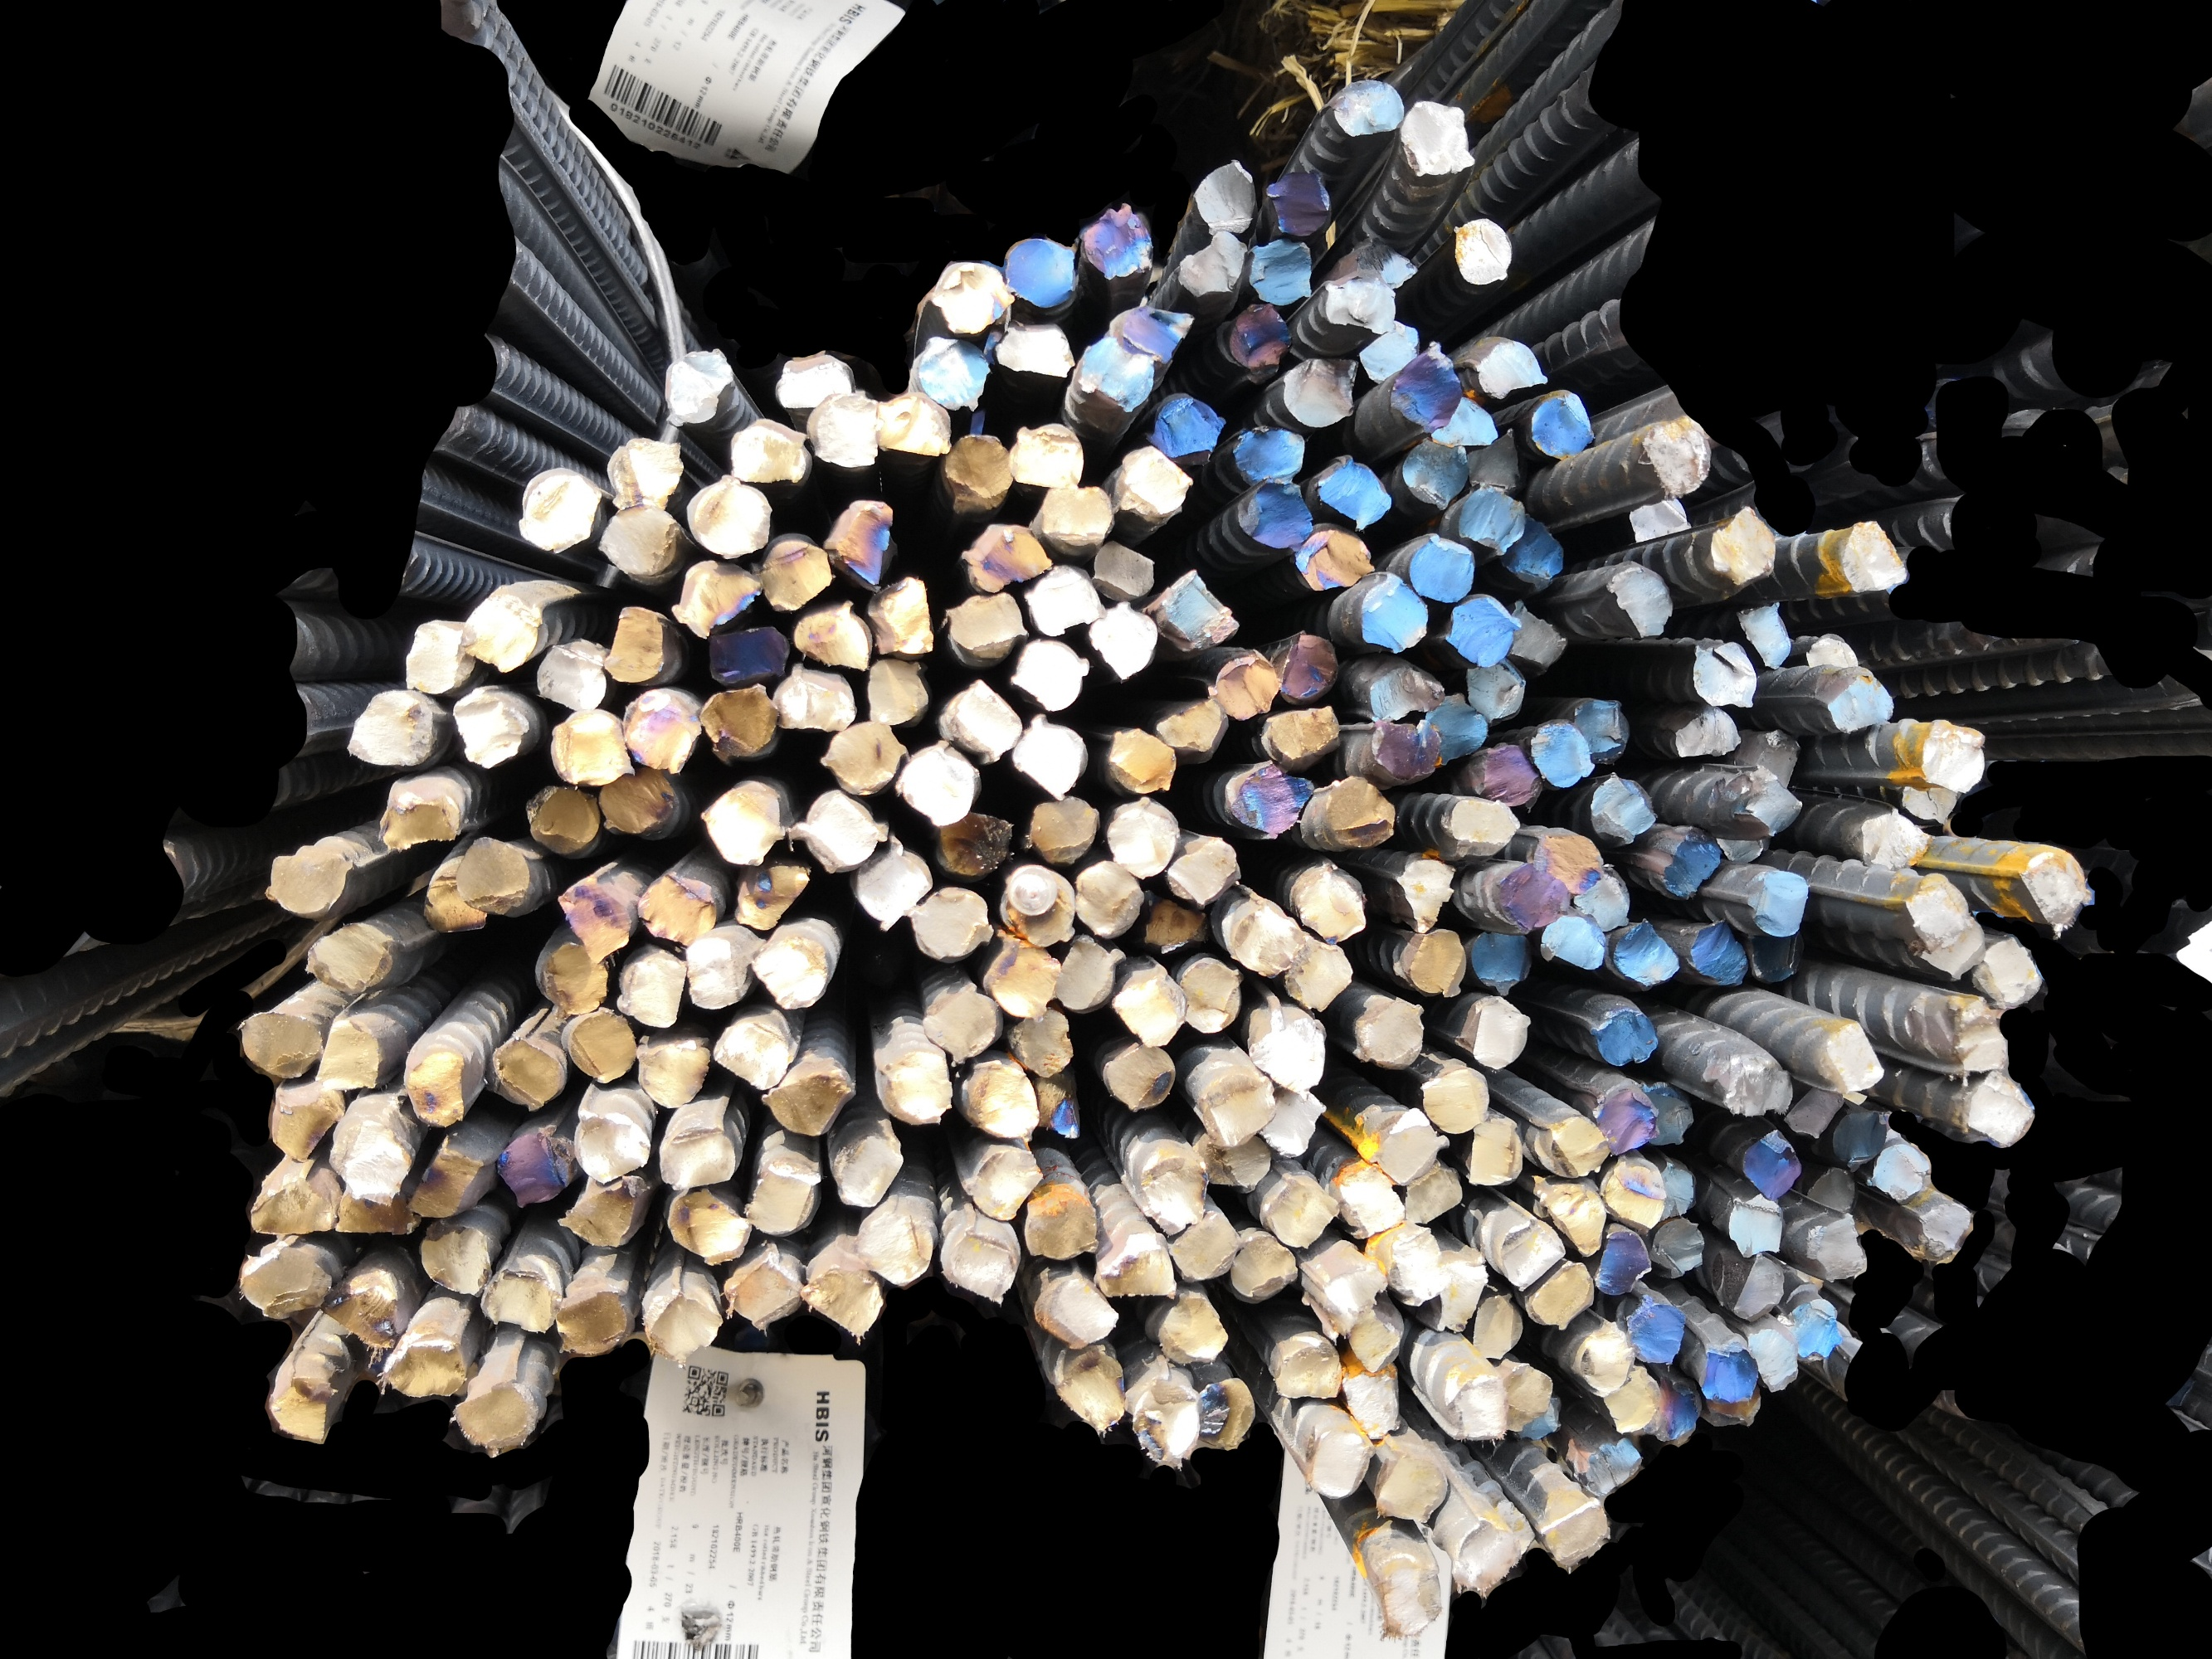rebar: (788, 786, 891, 875), (851, 833, 936, 936), (699, 775, 791, 870), (683, 471, 777, 558), (666, 556, 762, 641), (303, 918, 403, 1000), (328, 1114, 415, 1206), (554, 1166, 648, 1249), (518, 464, 601, 556), (549, 702, 638, 788), (940, 674, 1025, 763), (892, 737, 978, 826), (818, 716, 908, 800), (343, 687, 436, 769), (239, 1243, 333, 1323), (553, 873, 633, 967), (1192, 1065, 1278, 1152), (450, 1377, 540, 1459), (621, 687, 702, 777), (959, 519, 1055, 596), (821, 495, 896, 592), (458, 589, 544, 674), (493, 1121, 575, 1209), (450, 681, 532, 770), (983, 932, 1063, 1023), (960, 1061, 1041, 1152), (406, 1129, 485, 1222), (1389, 340, 1464, 436), (852, 1206, 936, 1291), (666, 1185, 753, 1267), (1034, 1270, 1121, 1352), (1110, 962, 1191, 1051), (1008, 709, 1086, 800), (1048, 1344, 1126, 1434), (959, 1141, 1042, 1225), (743, 1154, 824, 1239), (1130, 1148, 1210, 1236), (1128, 1371, 1199, 1469), (2015, 845, 2093, 934), (722, 1249, 805, 1331), (919, 981, 1001, 1065), (929, 260, 1014, 340), (910, 884, 995, 964), (1365, 1107, 1450, 1187), (633, 868, 720, 946), (1021, 561, 1109, 640), (263, 843, 356, 917), (1159, 570, 1241, 652), (594, 760, 678, 840), (870, 1046, 953, 1126), (938, 1216, 1018, 1300), (1231, 760, 1314, 840), (800, 1263, 887, 1340), (770, 660, 858, 737), (237, 1009, 326, 1084), (758, 1070, 856, 1138), (1075, 336, 1157, 416), (570, 1105, 654, 1183), (596, 502, 680, 580), (603, 432, 687, 511), (1701, 1049, 1795, 1119), (453, 835, 532, 917), (641, 1286, 725, 1363), (1110, 444, 1194, 521), (1103, 796, 1180, 880), (915, 329, 990, 415), (711, 1019, 798, 1093), (373, 1335, 469, 1401), (267, 1084, 347, 1162), (560, 1009, 640, 1087), (401, 617, 479, 697), (1006, 415, 1086, 493), (1398, 99, 1478, 178), (697, 681, 779, 758), (757, 532, 833, 613), (805, 389, 882, 471), (1163, 1206, 1245, 1283), (614, 948, 689, 1032), (1051, 934, 1126, 1018), (927, 810, 1014, 882), (1177, 950, 1246, 1039), (417, 1218, 495, 1297), (1021, 1183, 1100, 1262), (486, 1035, 567, 1112), (521, 779, 601, 856), (751, 936, 831, 1012), (1001, 864, 1075, 946), (831, 1126, 905, 1209), (940, 430, 1013, 514), (945, 591, 1032, 660), (533, 939, 612, 1016), (633, 1035, 713, 1110), (790, 599, 870, 674), (1009, 638, 1089, 713), (1079, 202, 1154, 282), (1313, 455, 1393, 530), (1187, 1127, 1278, 1194), (1072, 857, 1145, 939), (1295, 864, 1368, 946), (662, 345, 734, 429), (1320, 1260, 1391, 1344), (1640, 415, 1712, 498), (249, 1169, 336, 1237), (377, 782, 464, 850), (1252, 1018, 1327, 1096), (1262, 1175, 1340, 1249), (730, 861, 811, 934), (1086, 598, 1159, 678), (1708, 504, 1778, 587), (866, 572, 934, 657), (401, 1042, 467, 1129), (1154, 1291, 1231, 1366), (1970, 934, 2045, 1011), (1035, 479, 1114, 552), (1163, 833, 1241, 906), (1234, 899, 1307, 978), (1914, 716, 1987, 795), (1098, 1040, 1178, 1112), (1147, 392, 1227, 464), (1375, 1558, 1447, 1638), (1900, 871, 1971, 951), (1360, 572, 1429, 653), (1091, 1239, 1178, 1304), (1729, 763, 1804, 838), (553, 1286, 629, 1359), (1001, 235, 1077, 308), (1025, 793, 1102, 866), (1102, 723, 1178, 796), (1283, 356, 1360, 429), (1496, 861, 1572, 934), (657, 1121, 737, 1190), (872, 389, 952, 458), (1605, 559, 1675, 640), (1966, 1068, 2036, 1148), (601, 603, 669, 685), (725, 418, 807, 486), (776, 347, 858, 415), (1191, 157, 1259, 239), (479, 1267, 563, 1333), (312, 1018, 385, 1093), (1238, 477, 1313, 551), (1351, 999, 1426, 1072), (1445, 596, 1522, 667), (1109, 303, 1196, 366), (1295, 523, 1375, 591), (1454, 1516, 1522, 1596), (704, 622, 790, 685), (265, 1373, 340, 1445), (1227, 1229, 1299, 1304), (1264, 166, 1335, 240), (1206, 650, 1281, 721), (1333, 1166, 1405, 1241), (1839, 518, 1909, 594), (1917, 906, 1987, 983), (1499, 1215, 1567, 1293), (1389, 1227, 1454, 1309), (420, 864, 492, 938), (533, 640, 607, 711), (1175, 228, 1248, 300), (1257, 1084, 1328, 1157), (1375, 1452, 1449, 1523), (1457, 483, 1527, 558), (1539, 1493, 1609, 1568), (682, 934, 750, 1011), (1600, 1157, 1668, 1234), (1590, 770, 1658, 847), (1340, 1356, 1401, 1441), (1192, 1375, 1259, 1453), (319, 1288, 401, 1351), (995, 319, 1077, 382), (1325, 77, 1407, 139), (1365, 664, 1449, 725), (1327, 775, 1396, 849), (1307, 1427, 1377, 1500), (1002, 1009, 1077, 1077), (1529, 389, 1597, 464), (1401, 436, 1469, 511), (1802, 1209, 1870, 1284), (1530, 828, 1605, 896), (1321, 270, 1398, 336), (1227, 301, 1293, 378), (1471, 335, 1548, 401), (1262, 706, 1342, 769), (1949, 993, 2012, 1073), (1588, 1087, 1659, 1157), (1536, 1114, 1609, 1182), (1152, 690, 1227, 756), (1445, 795, 1520, 861), (333, 1183, 422, 1239), (1501, 514, 1565, 591), (1504, 598, 1569, 674), (1365, 718, 1442, 782), (1822, 1019, 1886, 1096), (1278, 631, 1340, 709), (1394, 856, 1457, 934), (1285, 943, 1354, 1012), (1421, 1066, 1492, 1134), (863, 653, 929, 727), (1858, 805, 1931, 871), (1354, 314, 1419, 389), (1088, 537, 1157, 605), (1435, 1244, 1487, 1335), (1689, 640, 1757, 709), (1827, 666, 1895, 735), (1529, 720, 1597, 789), (1612, 918, 1680, 988), (1408, 533, 1475, 605), (1740, 1127, 1804, 1201), (1473, 742, 1541, 810), (1140, 889, 1210, 955), (1530, 1262, 1597, 1331), (1745, 866, 1809, 938), (1232, 423, 1306, 486), (1424, 692, 1487, 765), (1642, 1373, 1703, 1448), (1661, 824, 1722, 899), (1469, 929, 1536, 997), (1621, 1297, 1687, 1364), (1248, 237, 1313, 307), (1452, 216, 1515, 288), (1578, 1321, 1635, 1398), (1405, 927, 1468, 997), (1590, 1004, 1659, 1066), (1550, 1187, 1609, 1260), (1464, 657, 1527, 725), (1569, 864, 1632, 932), (1274, 1340, 1344, 1401), (1447, 1373, 1508, 1443), (1687, 920, 1748, 990), (1471, 1000, 1530, 1072), (1426, 392, 1501, 448), (1830, 1107, 1893, 1173), (1593, 1229, 1654, 1297), (1571, 695, 1630, 765), (1466, 425, 1523, 497), (1605, 1364, 1663, 1436), (1727, 1251, 1785, 1323), (1499, 1361, 1555, 1434), (1351, 234, 1419, 293), (1539, 911, 1607, 971), (1867, 1143, 1931, 1204), (1637, 1079, 1694, 1147), (1736, 601, 1792, 671), (1673, 704, 1743, 760), (1468, 1121, 1523, 1190), (1743, 1324, 1799, 1394), (1030, 1068, 1082, 1141), (1745, 922, 1806, 985), (1727, 1192, 1785, 1258), (1788, 1297, 1844, 1364), (1471, 1291, 1523, 1363), (1783, 1079, 1844, 1140), (1703, 1340, 1761, 1405), (1347, 1307, 1403, 1373), (1403, 1166, 1464, 1225), (1649, 1218, 1706, 1281), (1750, 727, 1804, 793), (1584, 1436, 1644, 1495), (1914, 1201, 1971, 1262), (1628, 493, 1693, 544), (1700, 1382, 1764, 1432), (1898, 779, 1959, 828), (1511, 1392, 1564, 1443), (1806, 1166, 1860, 1215), (1806, 633, 1860, 678), (1658, 1161, 1698, 1222), (1712, 828, 1766, 866)
